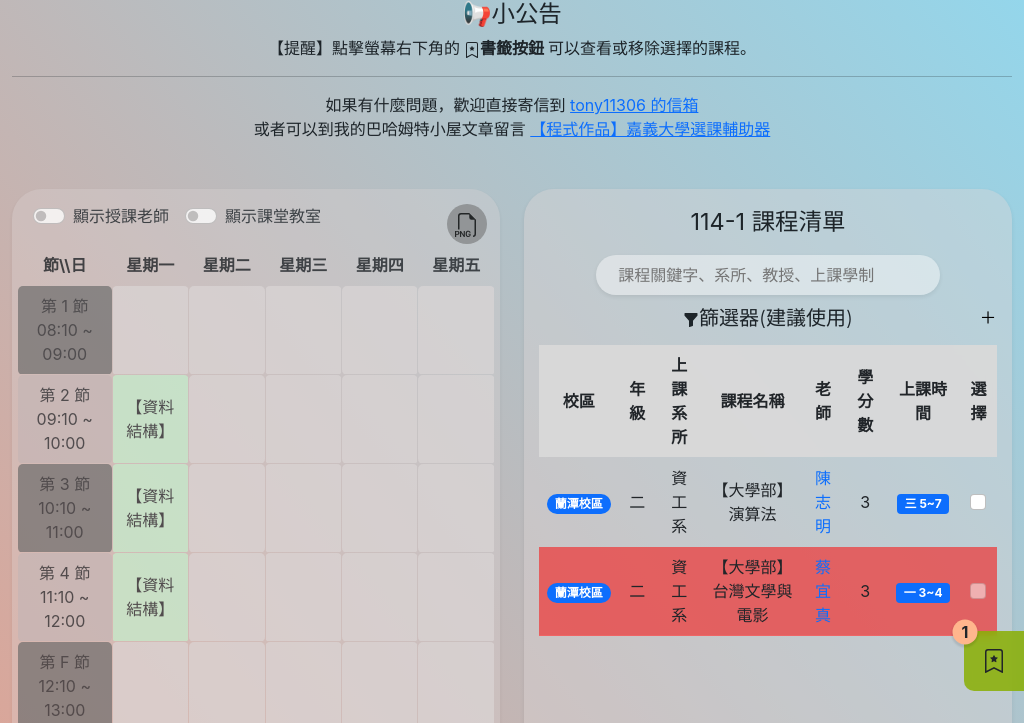
Test: 顯示授課老師與課堂教室的開關
Expected: the element with class "curriculum-table" does not show "王偉倫"
Click the checkbox labelled "顯示授課老師" at (49, 216), box [33,208,65,224]
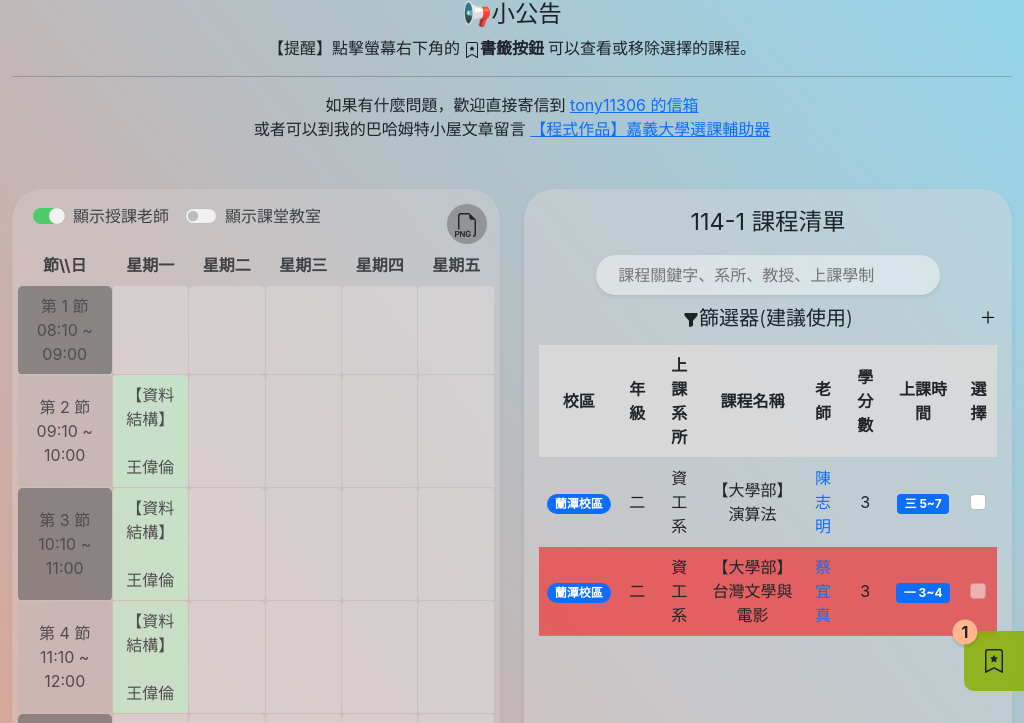
Expected: the element with class "curriculum-table" shows "王偉倫", [126,457,174,477]
Click the checkbox labelled "顯示課堂教室" at (201, 216), box [185,208,217,224]
(page scrolled)
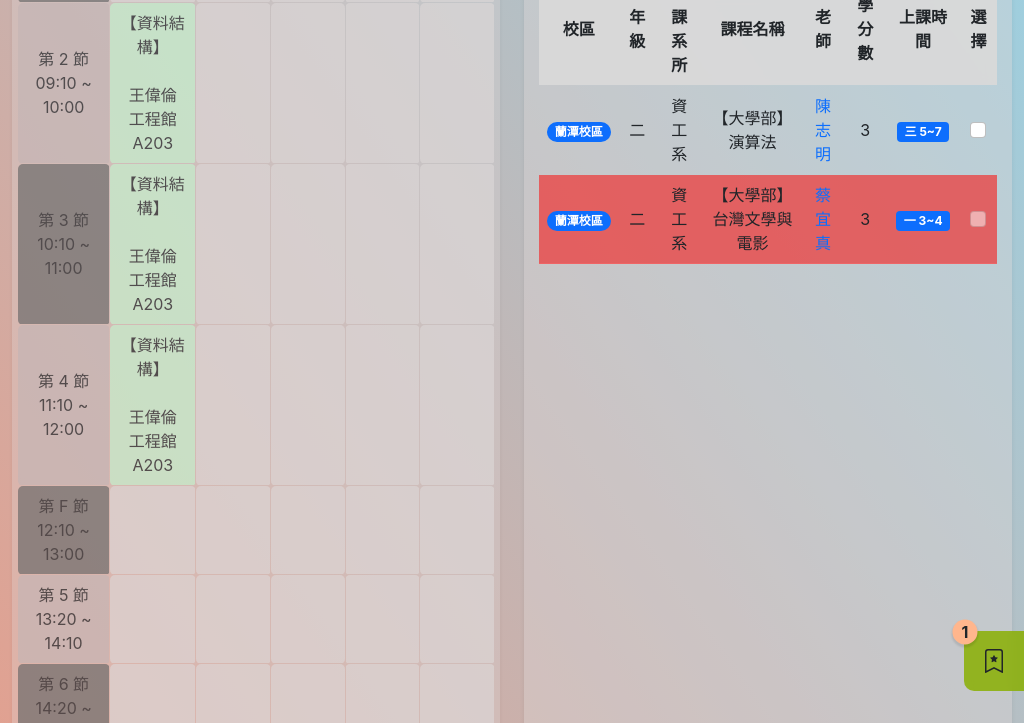
Expected: the element with class "curriculum-table" shows "工程館 A203", [129,109,177,153]
